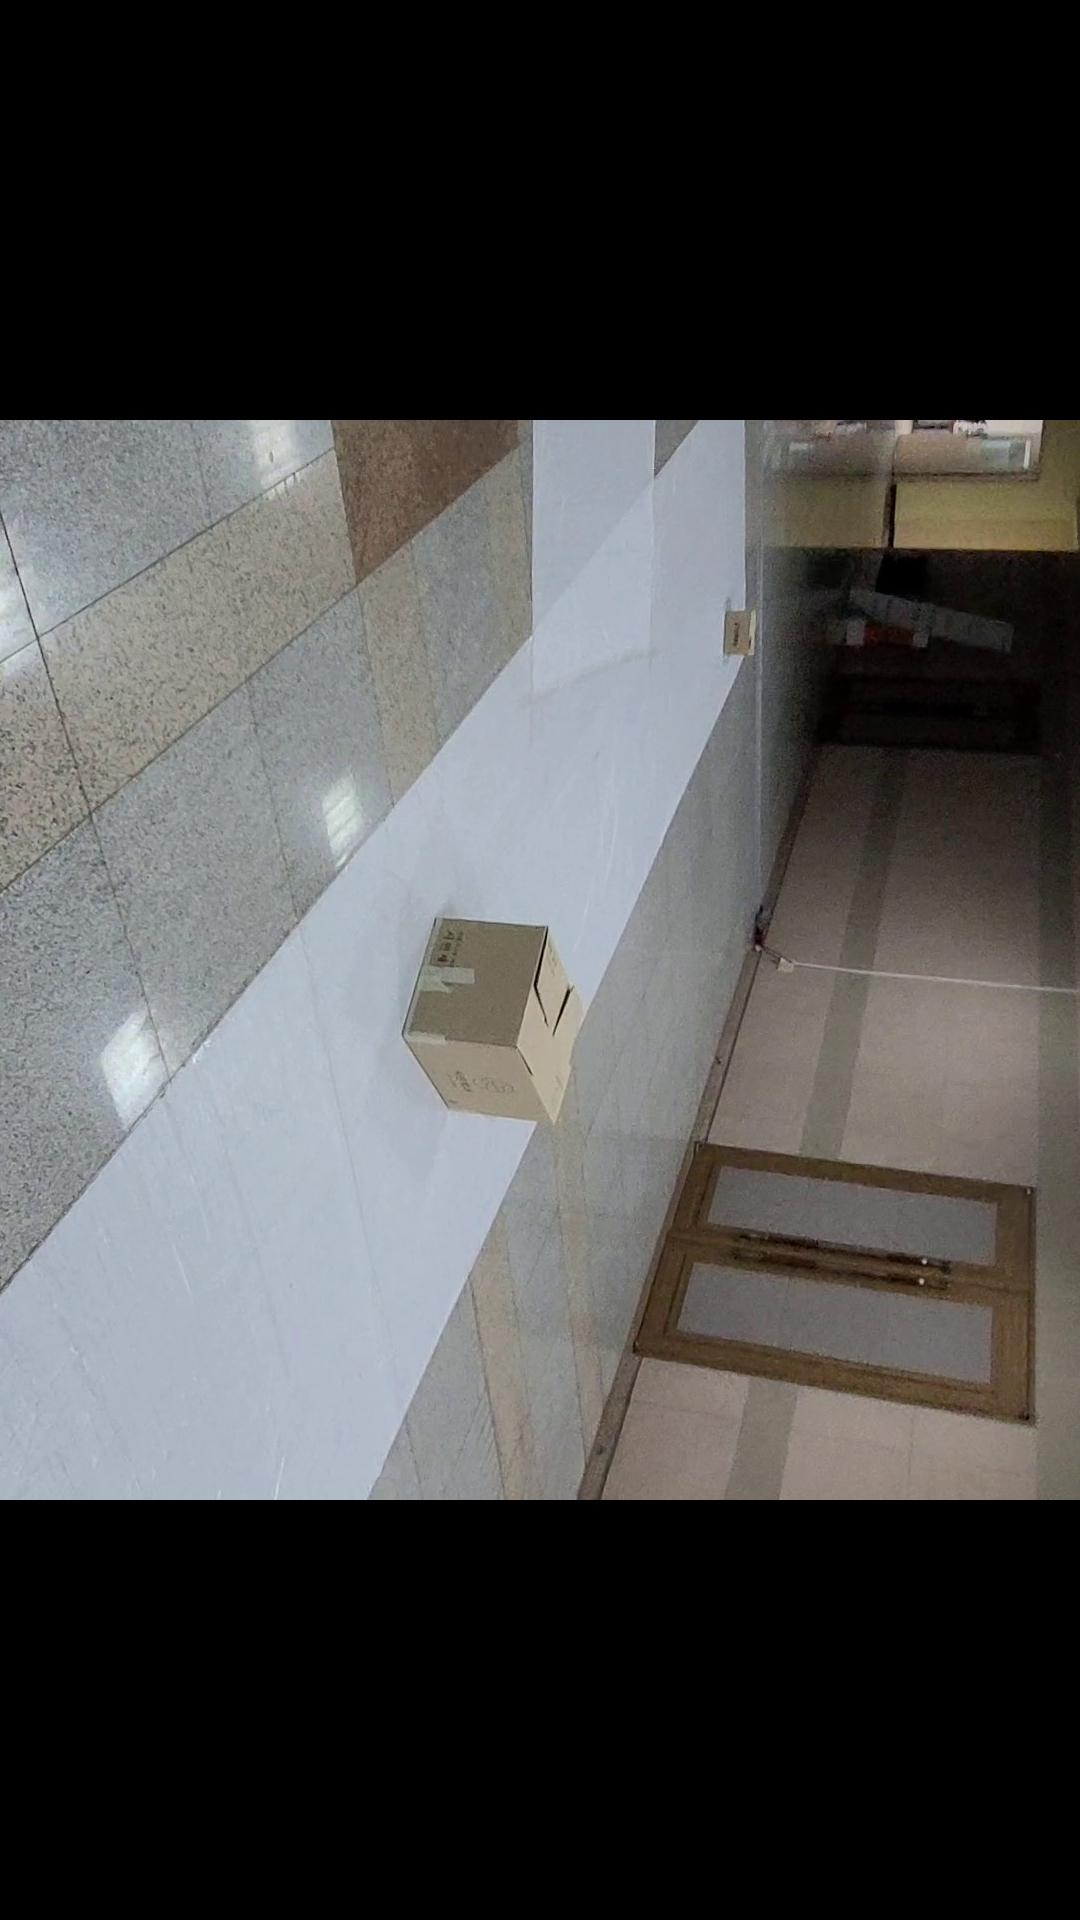Box: (352, 895, 617, 1153), (705, 556, 800, 678)
